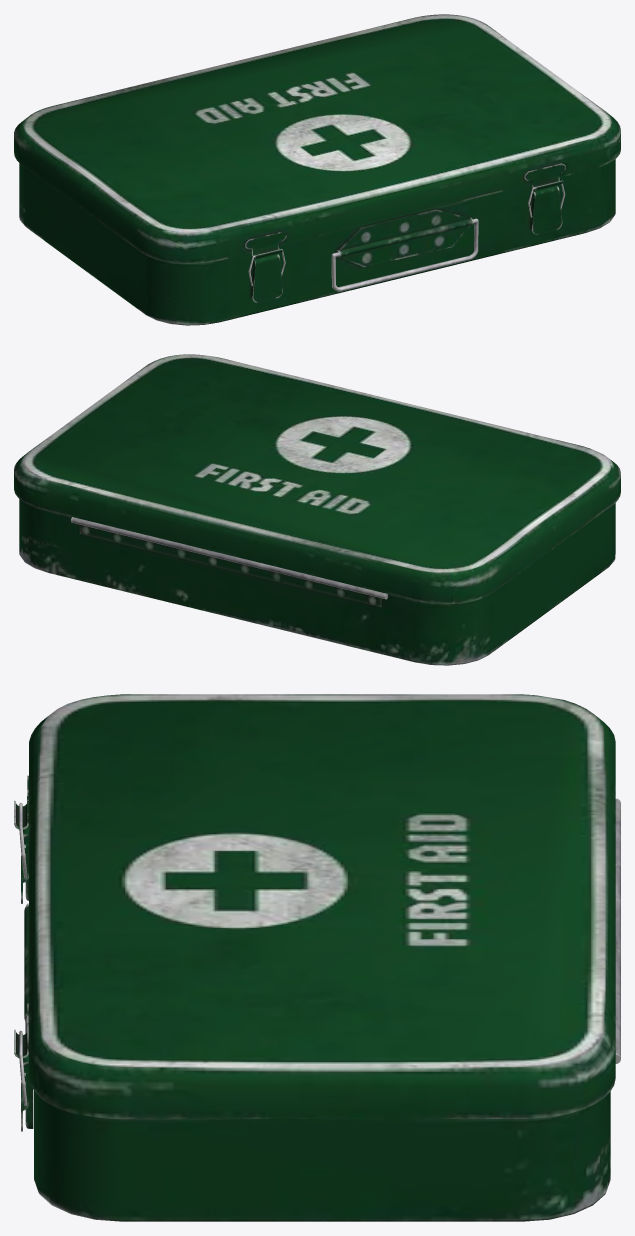
The model's file is medical_box.glb.
The picture shows the model from 3 angles, top to bottom: view 1: azimuth 30°, elevation 25°; view 2: azimuth 150°, elevation 25°; view 3: azimuth 270°, elevation 25°; orthographic projection. The views are drawn at different scales.
Parts seen in each view (by area): view 1: medical_box_latch; view 2: medical_box_latch; view 3: medical_box_latch.
Part boxes in pixels (x1,y1,x2,y2): medical_box_latch: (14,14,620,325); medical_box_latch: (14,354,620,665); medical_box_latch: (14,694,620,1221).
Bounding box in the file's own units: 0.5255 × 0.0975 × 0.3501.
1 material, 1 textured.
